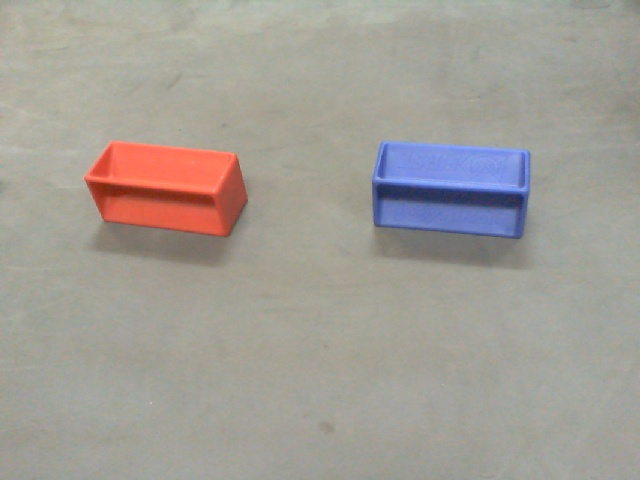BlueSample: (371, 139, 531, 237)
RedSample: (82, 140, 251, 239)
